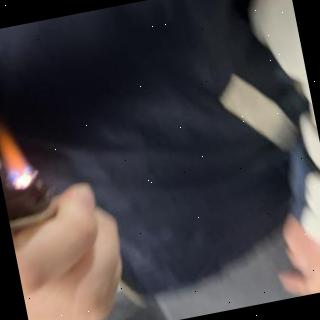fire: (0, 114, 38, 193)
